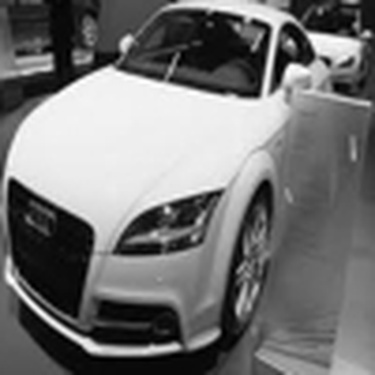car: (11, 9, 332, 369), (287, 10, 371, 87)
